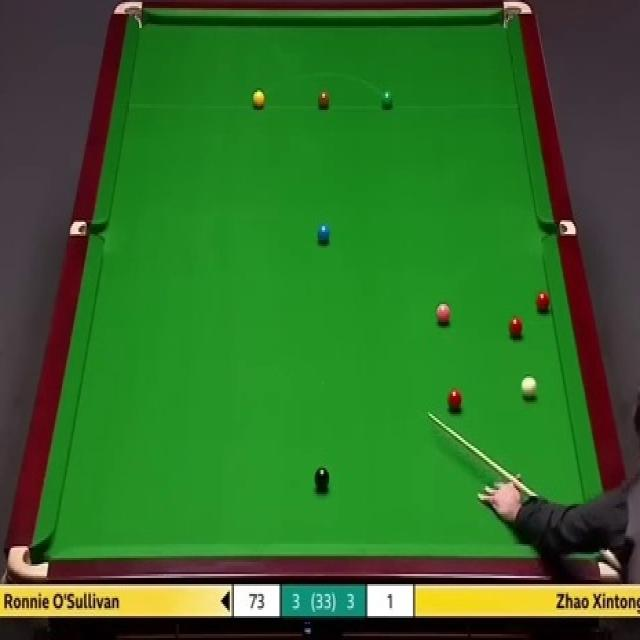pocket: (6, 544, 49, 579), (502, 2, 533, 32), (112, 1, 144, 30), (598, 547, 620, 583), (70, 221, 104, 240), (542, 222, 576, 240)
